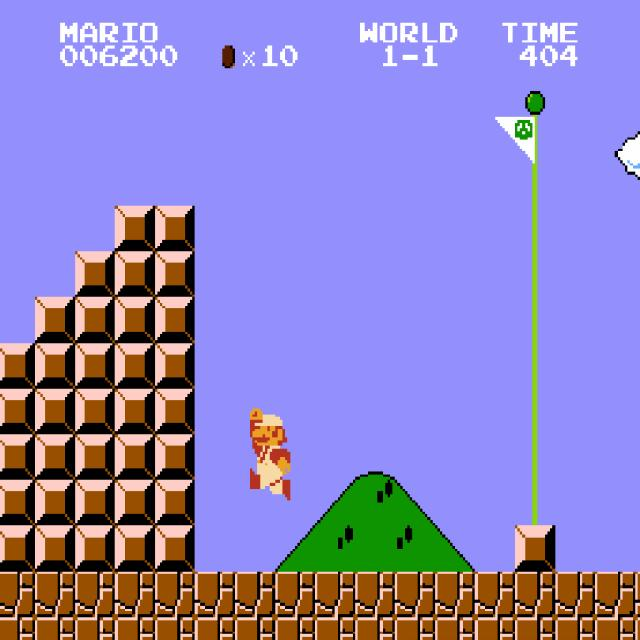fire_mario: (247, 406, 290, 500)
goal_pole: (515, 114, 555, 160), (515, 160, 555, 206), (515, 297, 555, 343), (515, 434, 555, 480), (515, 480, 555, 526), (515, 69, 555, 114), (515, 206, 555, 251), (515, 252, 555, 297), (515, 343, 555, 388), (515, 389, 555, 434)
hard_block: (35, 297, 75, 343), (35, 434, 75, 480), (35, 480, 75, 526), (75, 297, 115, 343), (75, 434, 115, 480), (75, 480, 115, 526), (115, 297, 155, 343), (115, 434, 155, 480), (115, 480, 155, 526), (155, 297, 195, 343), (155, 434, 195, 480), (155, 480, 195, 526), (35, 343, 75, 388), (35, 389, 75, 434), (35, 526, 75, 571), (75, 252, 115, 297), (75, 343, 115, 388), (75, 389, 115, 434), (75, 526, 115, 571), (115, 206, 155, 251), (115, 252, 155, 297), (115, 343, 155, 388), (115, 389, 155, 434), (115, 526, 155, 571), (155, 206, 195, 251), (155, 252, 195, 297), (155, 343, 195, 388), (155, 389, 195, 434), (155, 526, 195, 571), (515, 526, 555, 571), (0, 434, 35, 480), (0, 480, 35, 526), (0, 343, 35, 388), (0, 389, 35, 434), (0, 526, 35, 571)
undestructible_block: (35, 572, 75, 617), (75, 572, 115, 617), (115, 572, 155, 617), (155, 572, 195, 617), (195, 572, 235, 617), (235, 572, 275, 617), (275, 572, 315, 617), (315, 572, 355, 617), (355, 572, 395, 617), (395, 572, 435, 617), (435, 572, 475, 617), (475, 572, 515, 617), (515, 572, 555, 617), (555, 572, 595, 617), (595, 572, 635, 617), (0, 572, 35, 617), (35, 617, 75, 640), (75, 617, 115, 640), (115, 617, 155, 640), (155, 617, 195, 640), (195, 617, 235, 640), (235, 617, 275, 640), (275, 617, 315, 640), (315, 617, 355, 640), (355, 617, 395, 640), (395, 617, 435, 640), (435, 617, 475, 640), (475, 617, 515, 640), (515, 617, 555, 640), (555, 617, 595, 640), (595, 617, 635, 640), (0, 617, 35, 640), (635, 572, 640, 617), (635, 617, 640, 640)
